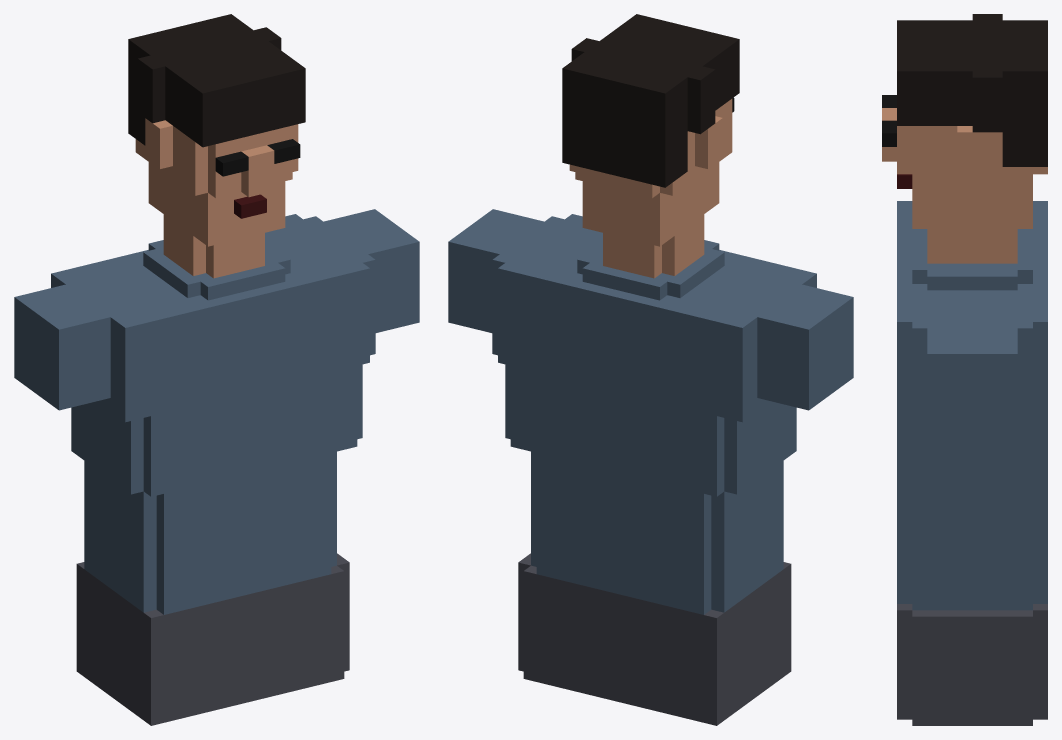
The model's file is player_bust_character.glb.
3 renders of one model, left to right at view 1: azimuth 30°, elevation 25°; view 2: azimuth 150°, elevation 25°; view 3: azimuth 270°, elevation 25°, orthographic.
Visible parts, largest first — view 1: bust:bust; view 2: bust:bust; view 3: bust:bust.
Part boxes in pixels (x1,y1,x2,y2): bust:bust: (14,14,419,725); bust:bust: (448,14,853,725); bust:bust: (882,14,1047,725).
Size of the model in its own units: 0.56 by 0.92 by 0.22.
